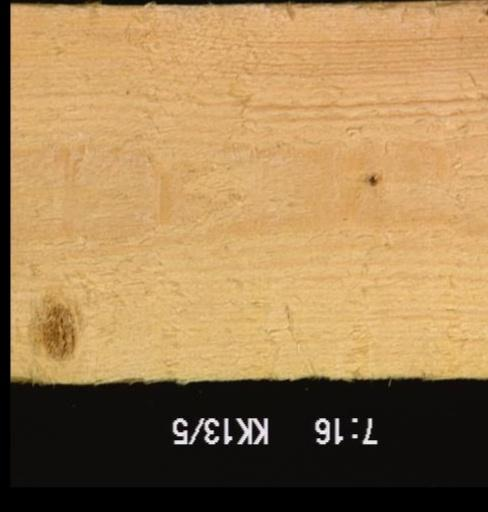small_knot: (363, 168, 384, 191)
sound_knot: (35, 301, 79, 362)
